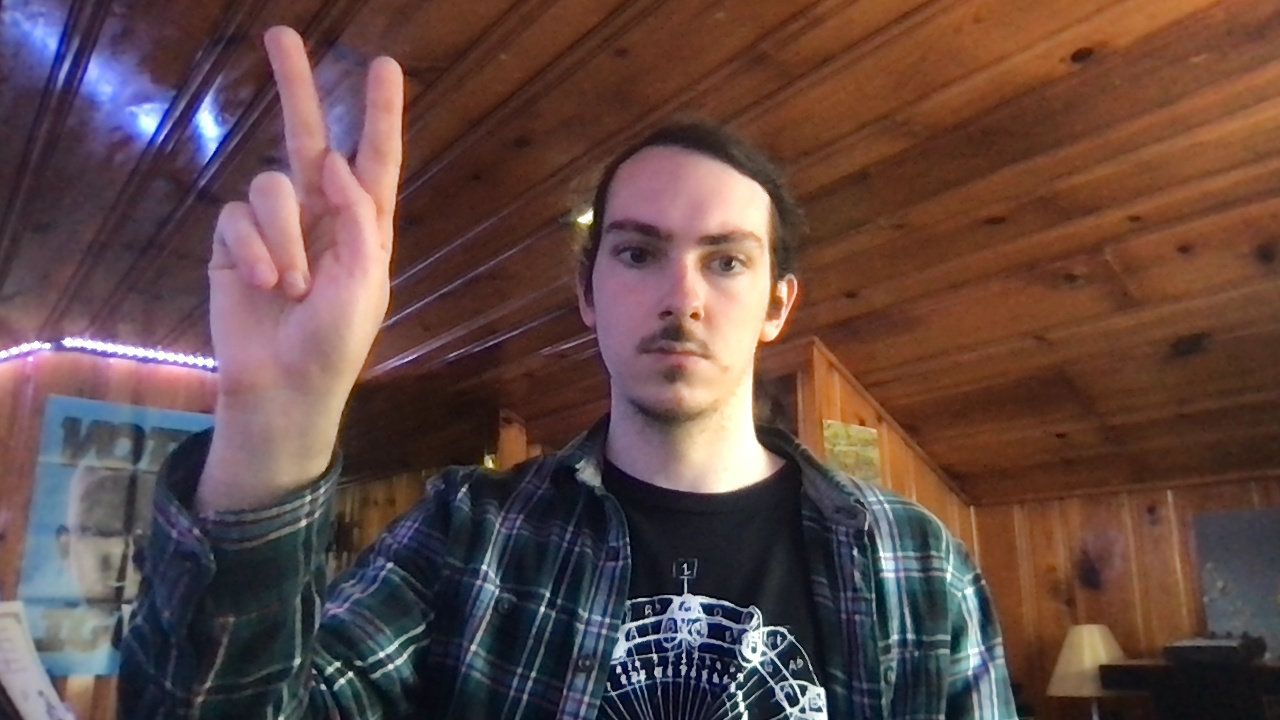k: (207, 23, 405, 386)
